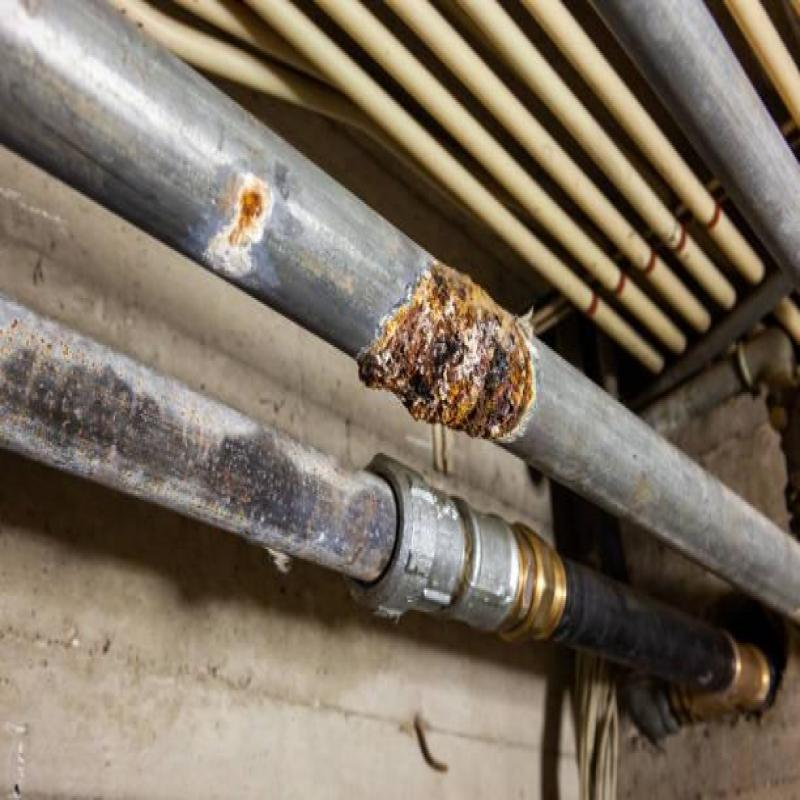corrosion: (377, 227, 542, 453)
